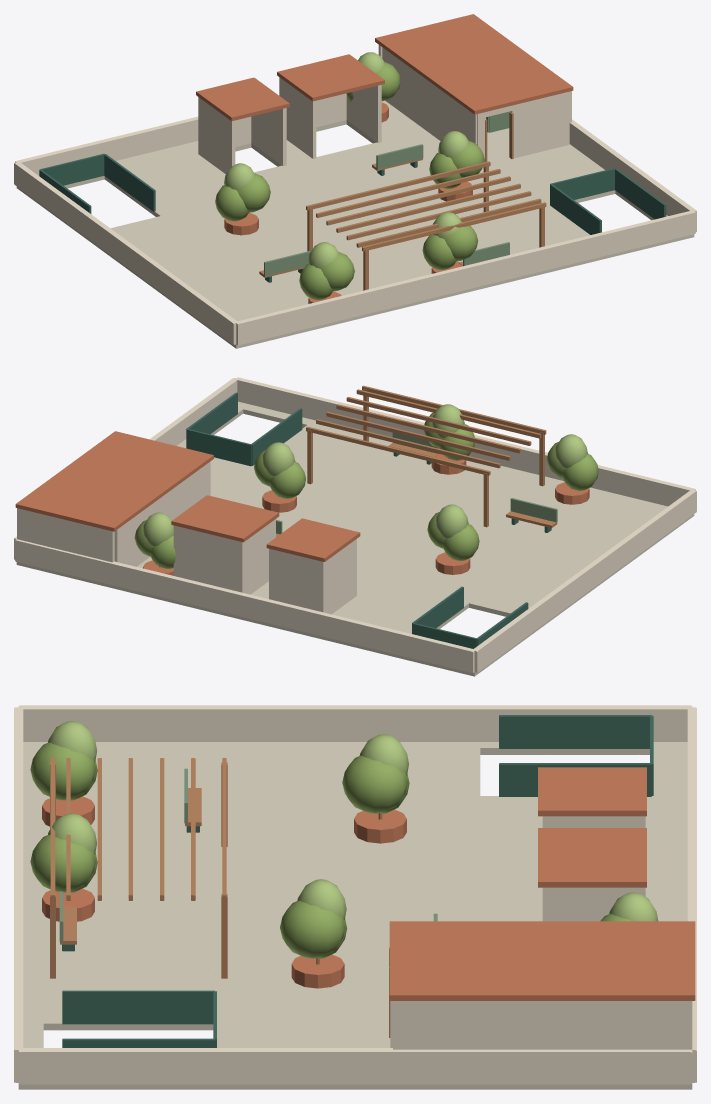
Rendered from campus-RF.glb.
3 renders of one model, top to bottom at view 1: azimuth 30°, elevation 25°; view 2: azimuth 150°, elevation 25°; view 3: azimuth 270°, elevation 25°, orthographic. The views are drawn at different scales.
Visible parts, largest first — view 1: Inside_stone_RF, Shell_cream_RF, Shell_clay_RF, Shell_wood_RF, Inside_cream_RF, Shell_leaf_RF, Inside_deep_RF, Shell_leaf2_RF, Inside_sage_RF, Inside_wood_RF; view 2: Inside_stone_RF, Shell_cream_RF, Shell_clay_RF, Shell_wood_RF, Inside_deep_RF, Shell_leaf_RF, Shell_leaf2_RF, Inside_cream_RF, Inside_sage_RF, Inside_wood_RF; view 3: Inside_stone_RF, Shell_cream_RF, Shell_clay_RF, Inside_deep_RF, Shell_leaf_RF, Shell_wood_RF, Shell_leaf2_RF, Inside_wood_RF.
Part boxes in pixels (x1=…): Inside_stone_RF: x1=16, y1=100, x2=694, y2=348; Shell_cream_RF: x1=14, y1=45, x2=696, y2=345; Shell_clay_RF: x1=196, y1=14, x2=573, y2=303; Shell_wood_RF: x1=241, y1=161, x2=546, y2=298; Inside_cream_RF: x1=382, y1=47, x2=569, y2=162; Shell_leaf_RF: x1=215, y1=62, x2=484, y2=300; Inside_deep_RF: x1=39, y1=153, x2=666, y2=282; Shell_leaf2_RF: x1=224, y1=52, x2=469, y2=269; Inside_sage_RF: x1=264, y1=111, x2=510, y2=276; Inside_wood_RF: x1=259, y1=112, x2=513, y2=277; Inside_stone_RF: x1=16, y1=401, x2=694, y2=676; Shell_cream_RF: x1=14, y1=377, x2=696, y2=672; Shell_clay_RF: x1=15, y1=431, x2=589, y2=575; Shell_wood_RF: x1=159, y1=385, x2=572, y2=567; Inside_deep_RF: x1=186, y1=392, x2=551, y2=648; Shell_leaf_RF: x1=134, y1=412, x2=598, y2=568; Shell_leaf2_RF: x1=143, y1=404, x2=587, y2=546; Inside_cream_RF: x1=114, y1=461, x2=210, y2=566; Inside_sage_RF: x1=276, y1=432, x2=557, y2=534; Inside_wood_RF: x1=276, y1=443, x2=557, y2=536; Inside_stone_RF: x1=18, y1=742, x2=692, y2=1089; Shell_cream_RF: x1=14, y1=705, x2=696, y2=1084; Shell_clay_RF: x1=42, y1=767, x2=695, y2=1000; Inside_deep_RF: x1=62, y1=715, x2=653, y2=1047; Shell_leaf_RF: x1=30, y1=742, x2=631, y2=958; Shell_wood_RF: x1=50, y1=758, x2=382, y2=978; Shell_leaf2_RF: x1=48, y1=721, x2=658, y2=921; Inside_wood_RF: x1=60, y1=788, x2=390, y2=1037.
Size of the model in its own units: 26.3 by 3.64 by 21.9.
